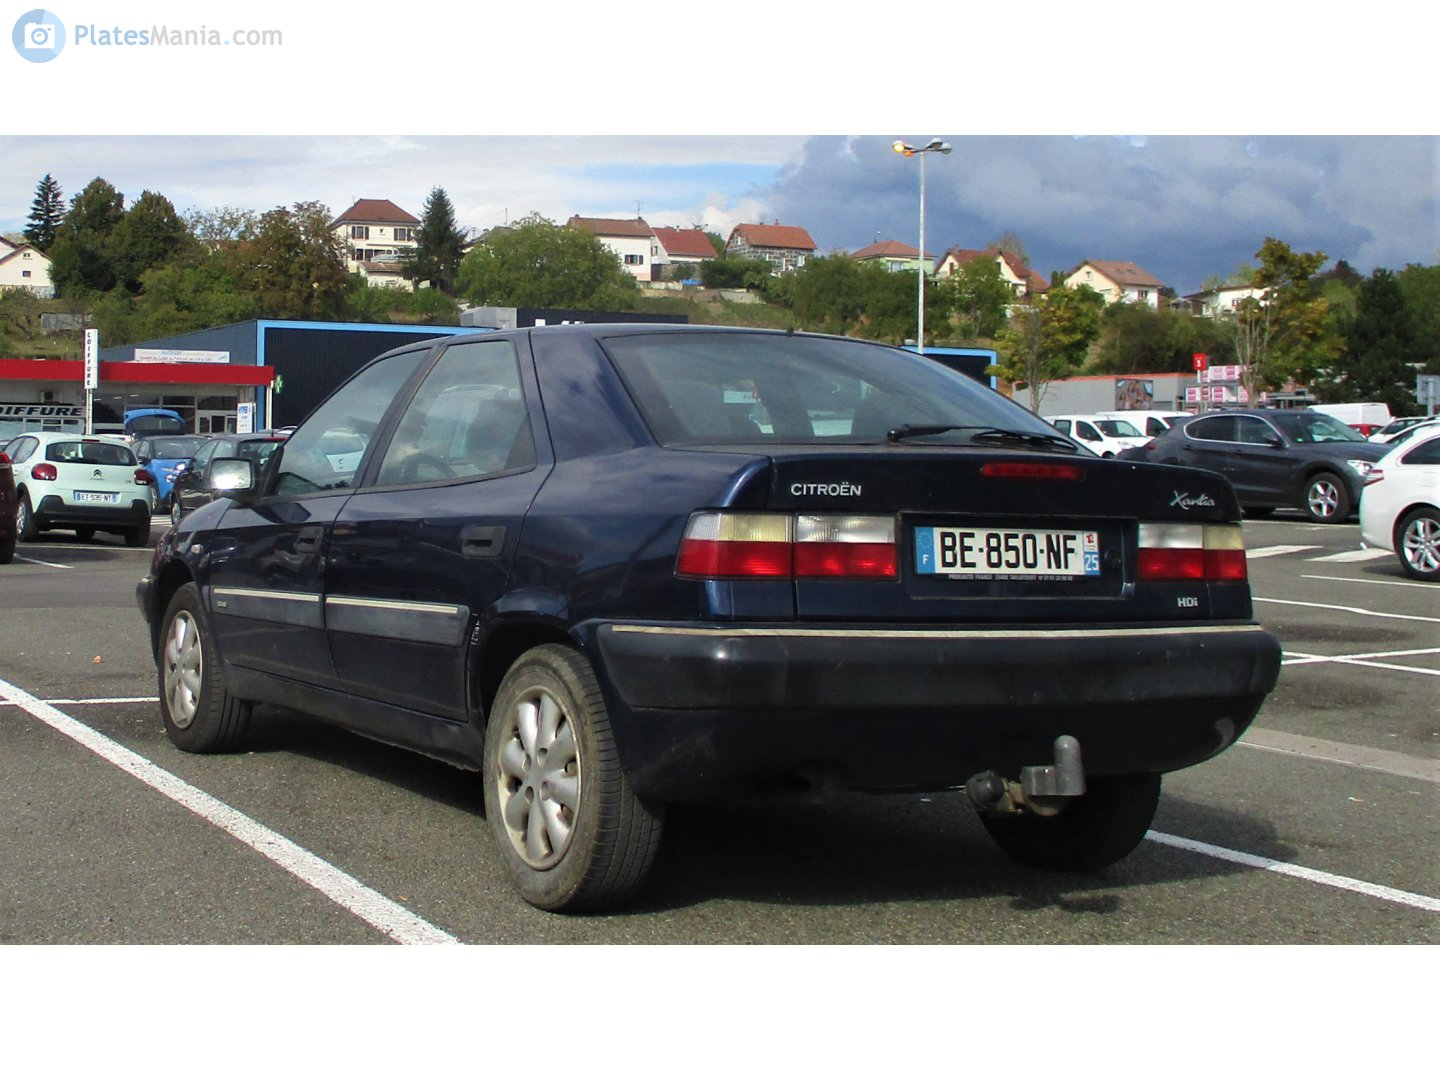licence plate: (910, 520, 1108, 585)
